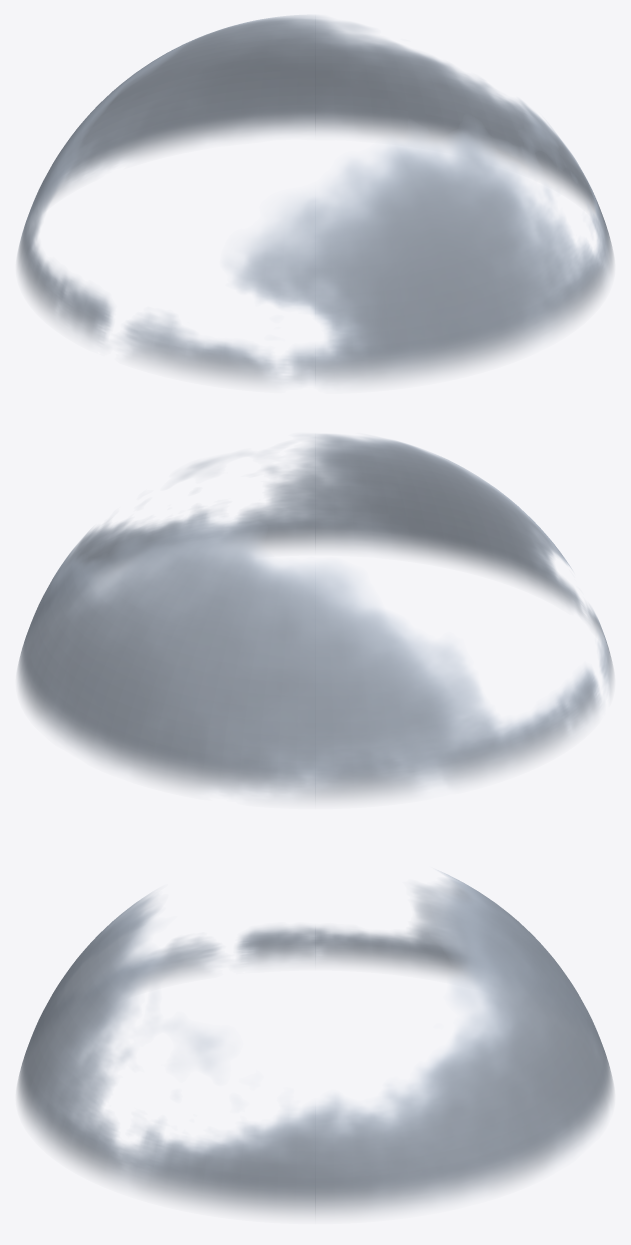
The model's file is cloudsky_overcast.glb.
3 views of the same model, one above another, from view 1: azimuth 30°, elevation 25°; view 2: azimuth 150°, elevation 25°; view 3: azimuth 270°, elevation 25° (orthographic).
Size of the model in its own units: 23.65 by 9.96 by 23.65.
Materials: 1 (1 with a texture image).
